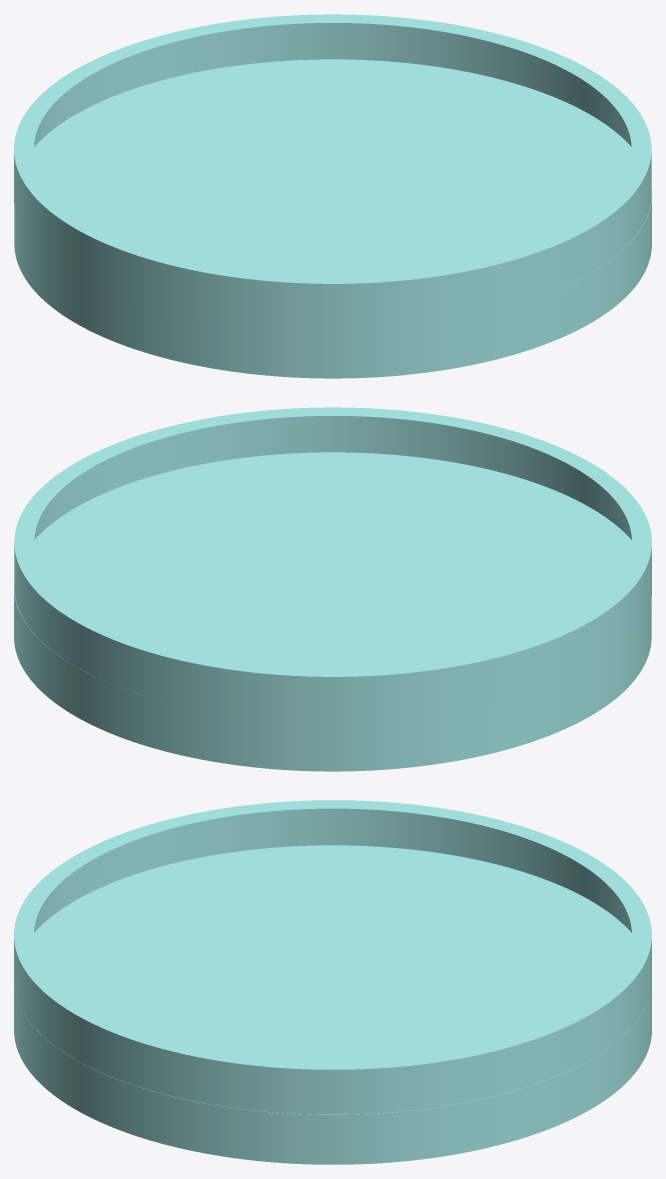
The model's file is mobileplatform8.fbx.
3 renders of one model, top to bottom at view 1: azimuth 30°, elevation 25°; view 2: azimuth 150°, elevation 25°; view 3: azimuth 270°, elevation 25°, orthographic.
Parts seen in each view (by area): view 1: Cylinder.007; view 2: Cylinder.007; view 3: Cylinder.007.
Boxes of the visible parts, x1=… form: Cylinder.007: x1=14, y1=14, x2=651, y2=378; Cylinder.007: x1=14, y1=407, x2=651, y2=771; Cylinder.007: x1=14, y1=800, x2=651, y2=1164.
Size of the model in its own units: 12009 by 1967 by 12000.
